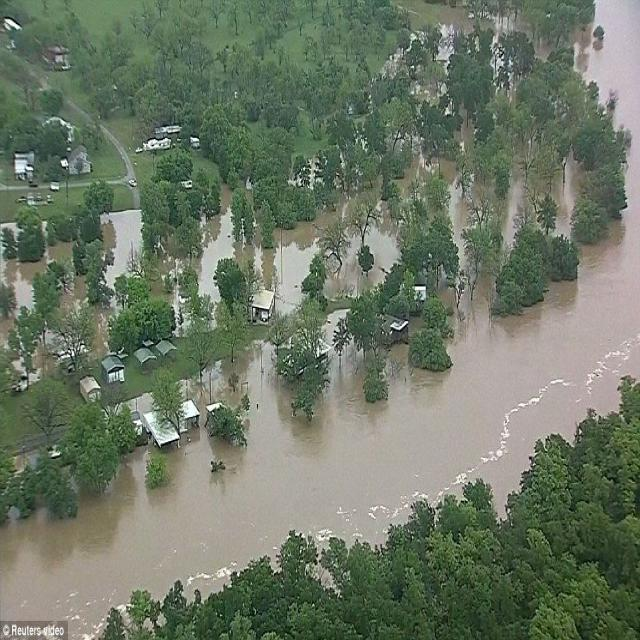flooded_areas: (2, 38, 630, 614)
